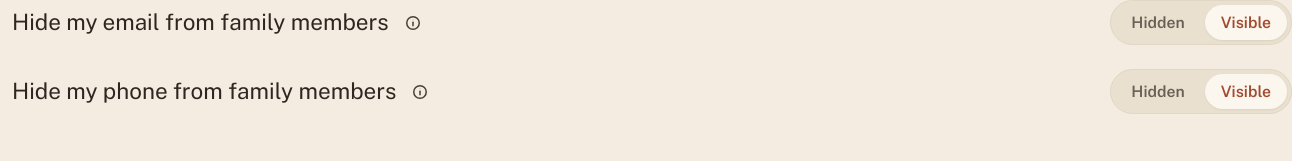
it: PrivacyForm › rolls back the optimistic flip when the save action errors
This screenshot has width=1292, height=161.
Note: The save-status hint renders as a sibling of the toggle row, both inside the field's outer wrapper.
Step 1. Click the button "Hidden" in the row of "Hide my email from family members" → [1158, 22], box [1115,5,1201,40]
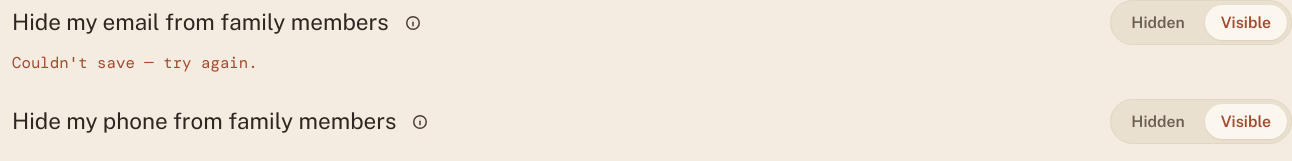
Check: the button "Visible" in the row of "Hide my email from family members" is shown, box [1205,5,1287,40]
Check: the text "Couldn't save — try again." is shown, box [12,52,258,73]
